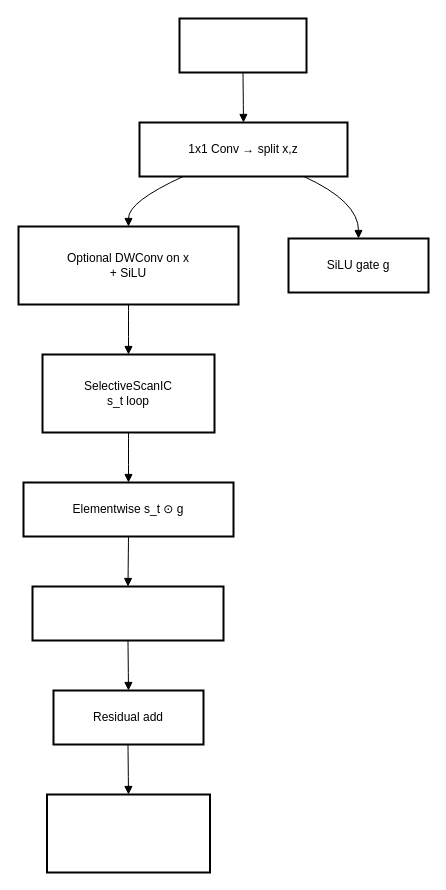
This 446x890 diagram has some shape labels left out. Each missing label, with the centre of its shape:
1x1 Conv out_proj: pixel 127 613
Global pooling + Linear head: pixel 128 833
RMSNorm: pixel 242 45
